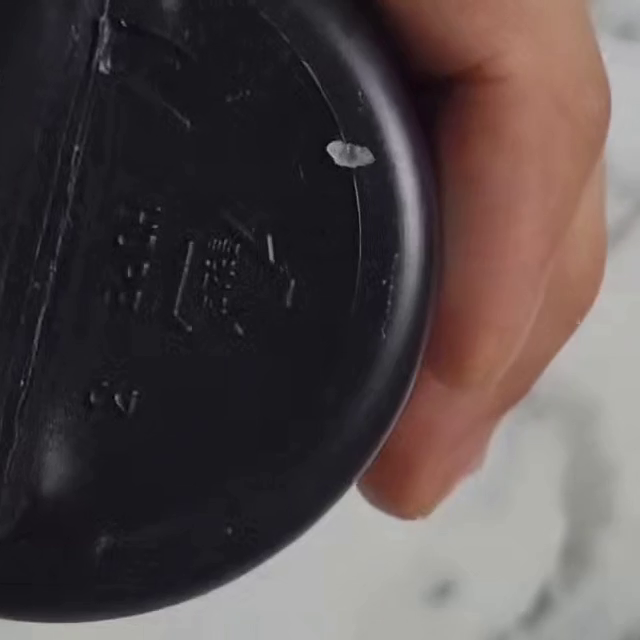Plastic: (160, 209, 301, 346)
